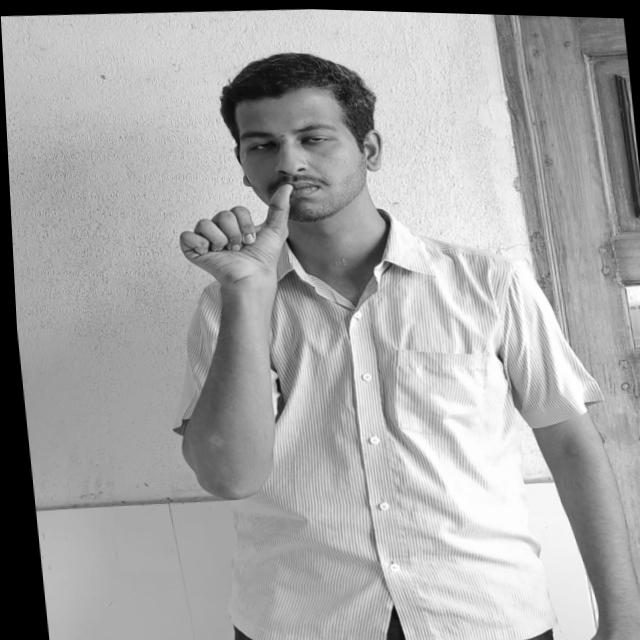Drink: (164, 178, 316, 280)
